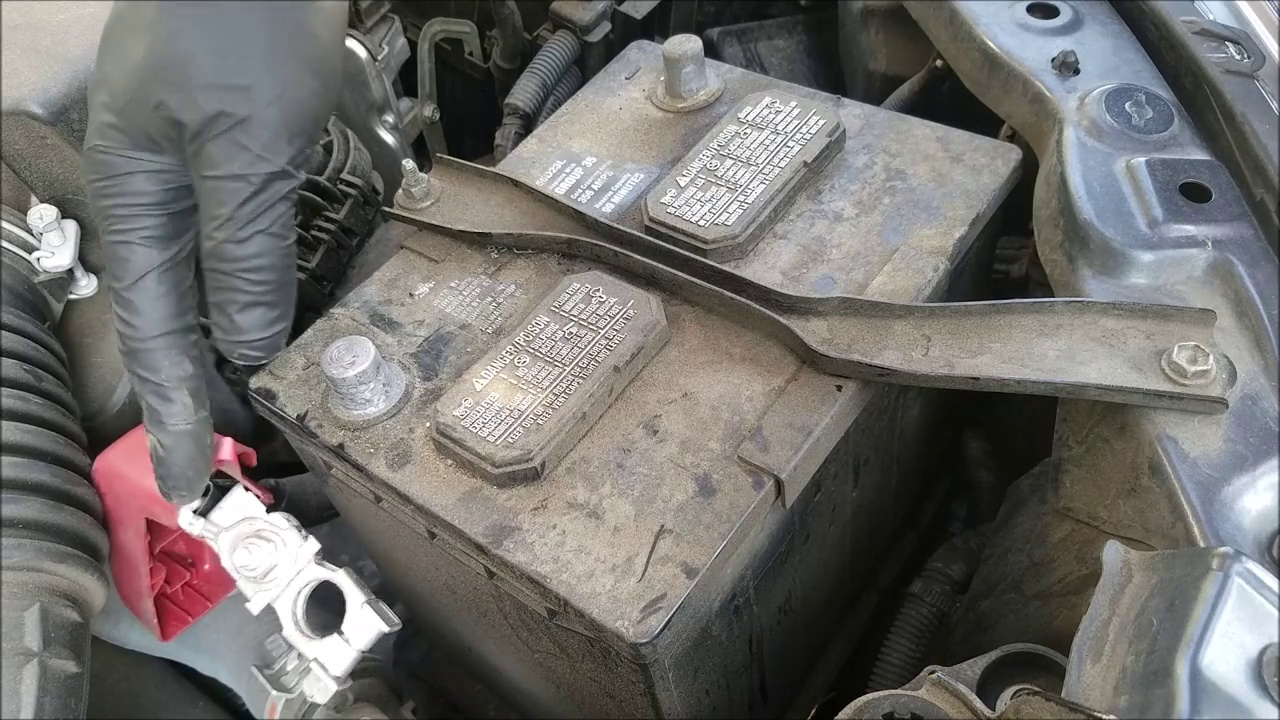battery: (263, 12, 1023, 602)
neg_disconnected: (617, 21, 759, 129)
pos_disconnected: (108, 338, 438, 652)
pos_touched: (123, 219, 417, 608)
